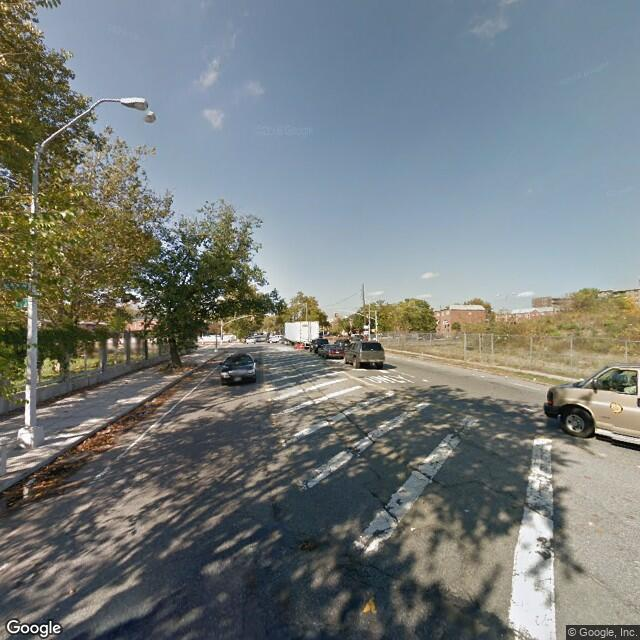litter: (408, 524, 418, 535), (532, 377, 537, 382)
